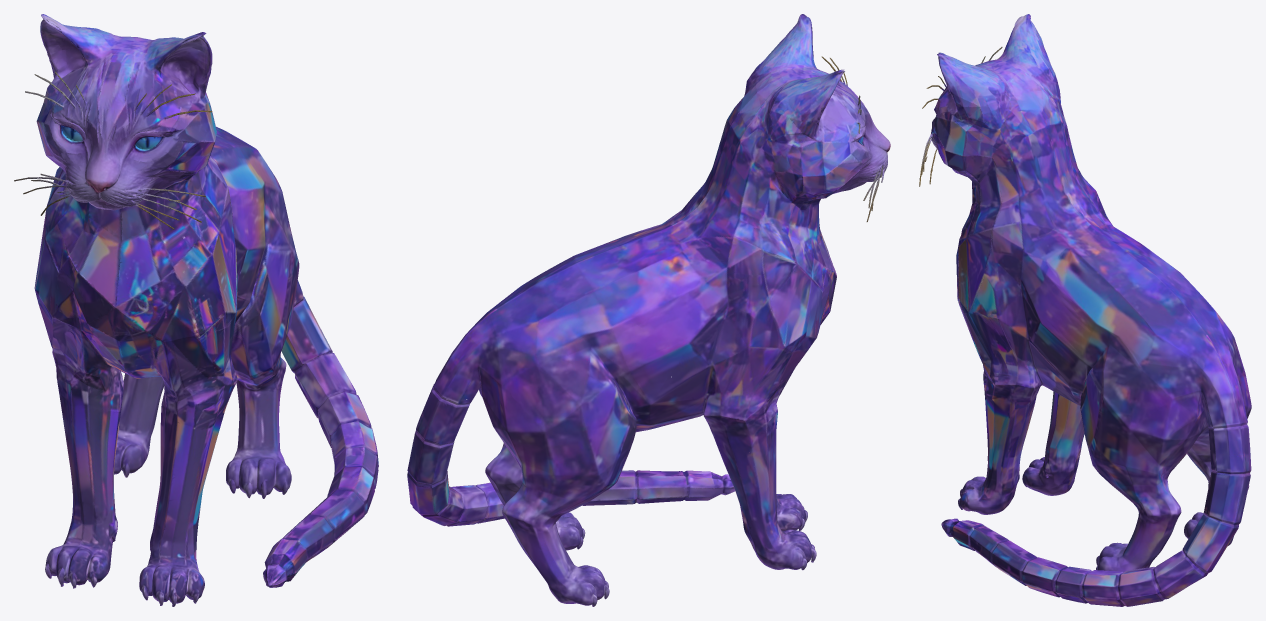
The model's file is paradoxa.glb.
3 renders of one model, left to right at view 1: azimuth 30°, elevation 25°; view 2: azimuth 150°, elevation 25°; view 3: azimuth 270°, elevation 25°, orthographic. The views are drawn at different scales.
Visible parts, largest first — view 1: tripo_node_bd35dcff-6698-441e-82e8-4cc60b69f4e0; view 2: tripo_node_bd35dcff-6698-441e-82e8-4cc60b69f4e0; view 3: tripo_node_bd35dcff-6698-441e-82e8-4cc60b69f4e0.
Boxes of the visible parts, <box> form: tripo_node_bd35dcff-6698-441e-82e8-4cc60b69f4e0: <box>14,14,378,606</box>; tripo_node_bd35dcff-6698-441e-82e8-4cc60b69f4e0: <box>407,14,890,606</box>; tripo_node_bd35dcff-6698-441e-82e8-4cc60b69f4e0: <box>919,14,1251,606</box>.
Size of the model in its own units: 0.7533 by 0.979 by 0.6464.
1 material, 1 textured.
